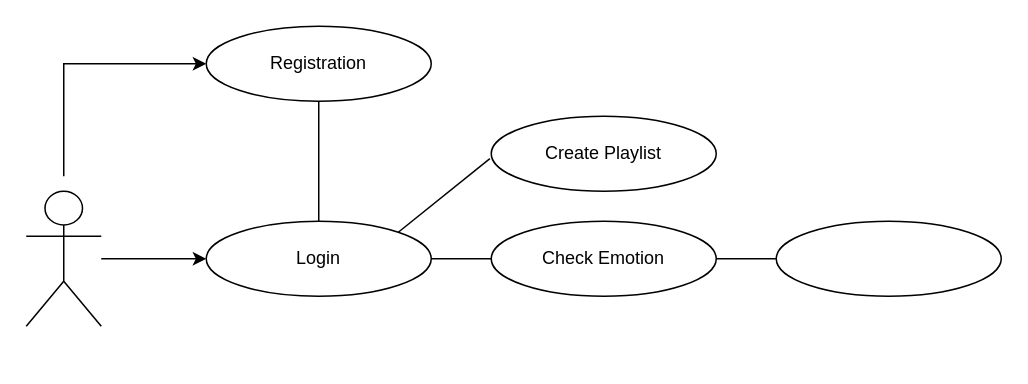
Image size: 1028x384. Some labels were removed from this diagram. Here are the shapes that lost their labels. From the top down, the box of each, then its label:
(25, 190, 101, 326): User
(775, 220, 1001, 296): Add Emotion
